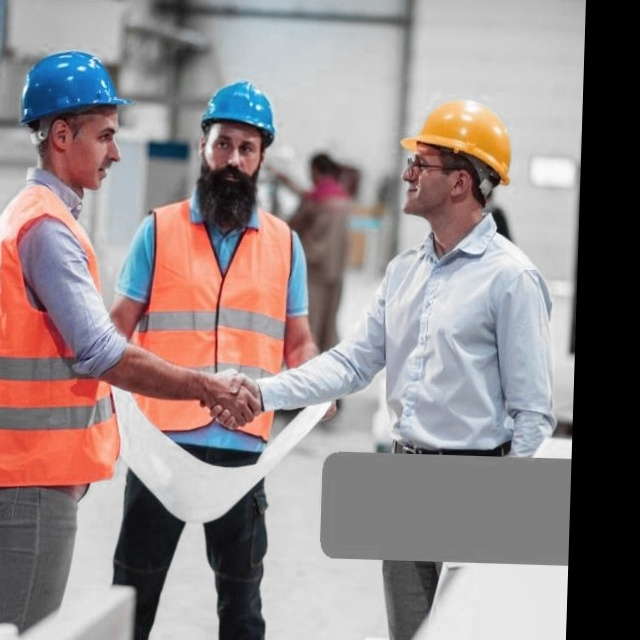Con_Casco: (20, 50, 138, 191), (198, 79, 281, 202)
Con_Chaleco: (0, 189, 132, 487), (131, 202, 294, 439)
Sin_Chaleco: (365, 225, 556, 457)
